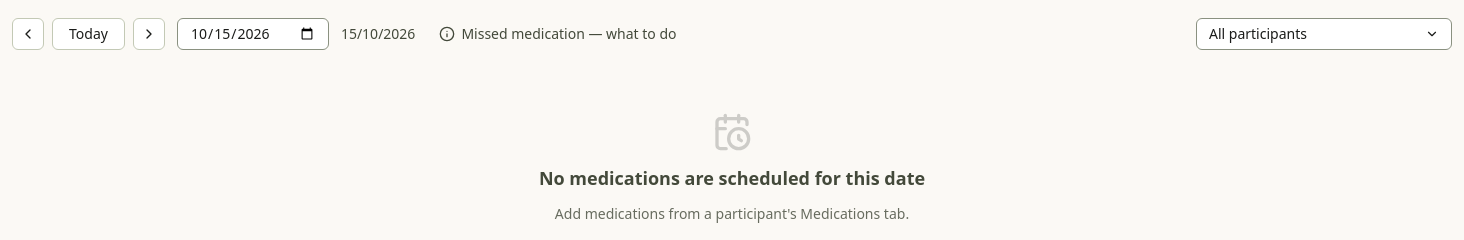
Test: MarTab — day navigation › moving the shown day › Next day shows the following day
The image size is (1464, 240).
Click the button named "Next day": (149, 34) x1=133 y1=18 x2=165 y2=50
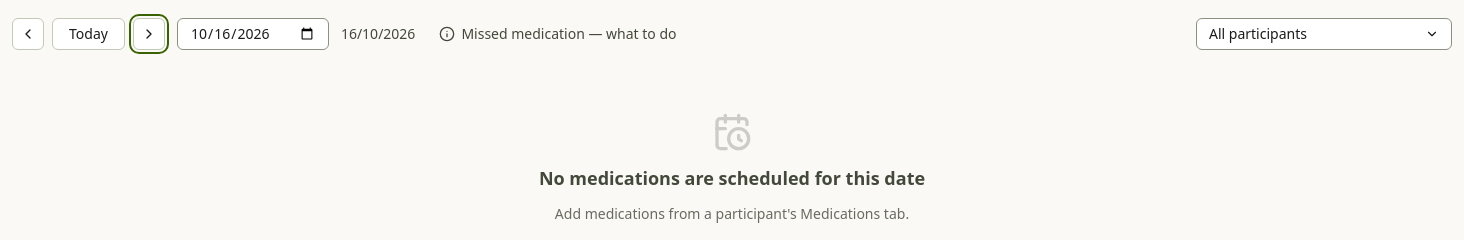
Result: the date field named "Select date" holds "2026-10-16" at x1=177 y1=18 x2=329 y2=50
